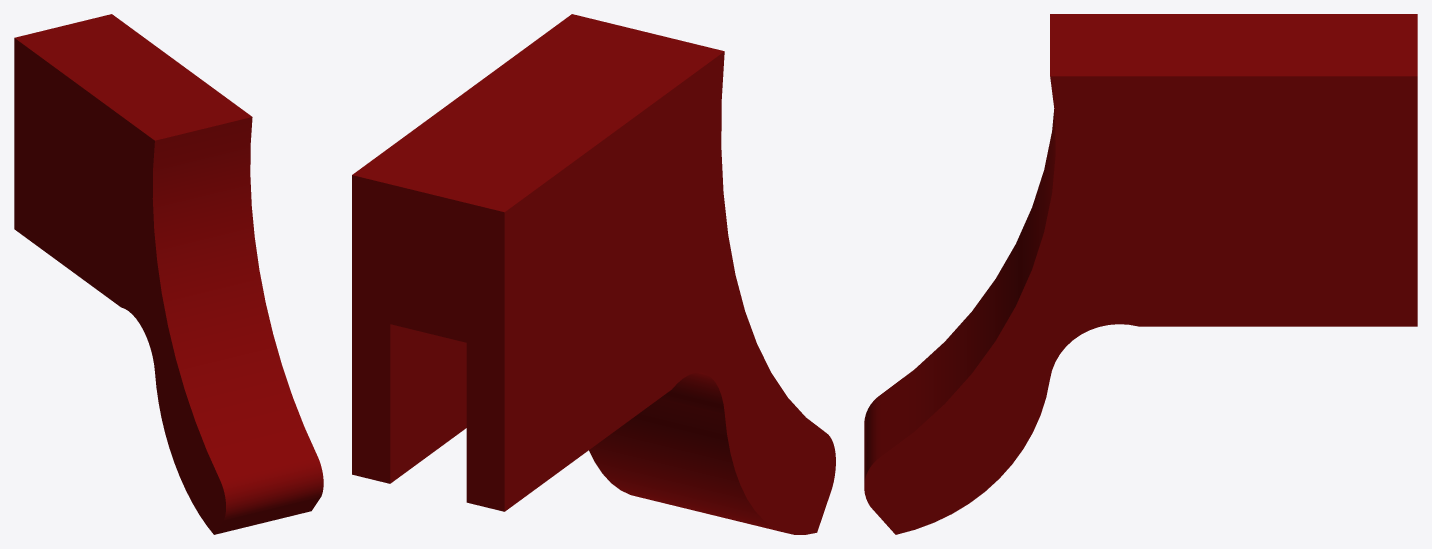
The model's file is original-5.obj.
3 renders of one model, left to right at view 1: azimuth 30°, elevation 25°; view 2: azimuth 150°, elevation 25°; view 3: azimuth 270°, elevation 25°, orthographic. The views are drawn at different scales.
Visible parts, largest first — view 1: trigger1/trigger/mesh12/mesh12-geometry#mesh12-geometry; view 2: trigger1/trigger/mesh12/mesh12-geometry#mesh12-geometry; view 3: trigger1/trigger/mesh12/mesh12-geometry#mesh12-geometry.
Part boxes in pixels (x1,y1,x2,y2): trigger1/trigger/mesh12/mesh12-geometry#mesh12-geometry: (14, 14, 323, 534); trigger1/trigger/mesh12/mesh12-geometry#mesh12-geometry: (352, 14, 835, 534); trigger1/trigger/mesh12/mesh12-geometry#mesh12-geometry: (864, 14, 1417, 534).
Size of the model in its own units: 0.0492 by 0.169 by 0.1847.
